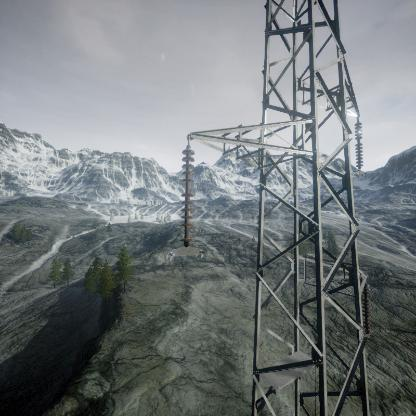insulator: (178, 144, 195, 246), (352, 120, 364, 169)
